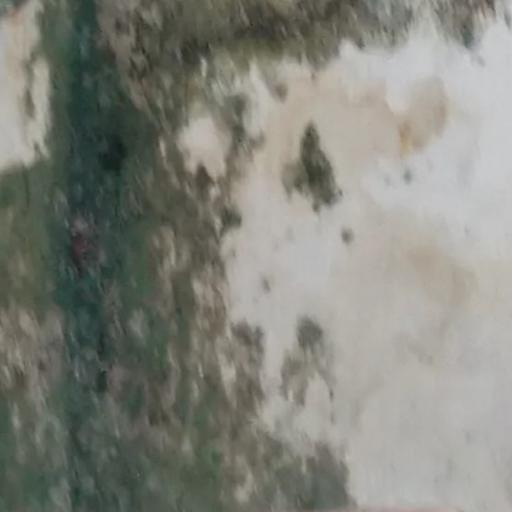algae: (6, 0, 409, 512)
